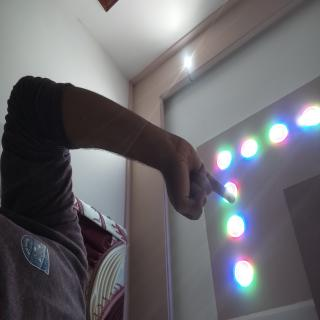MEEM: (96, 106, 166, 214)
